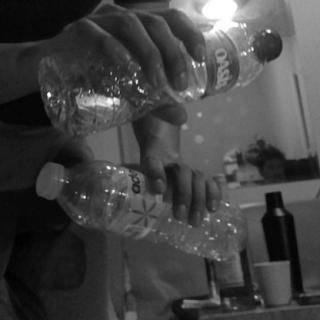plastic_bottles: (34, 20, 282, 138), (33, 161, 251, 265)
